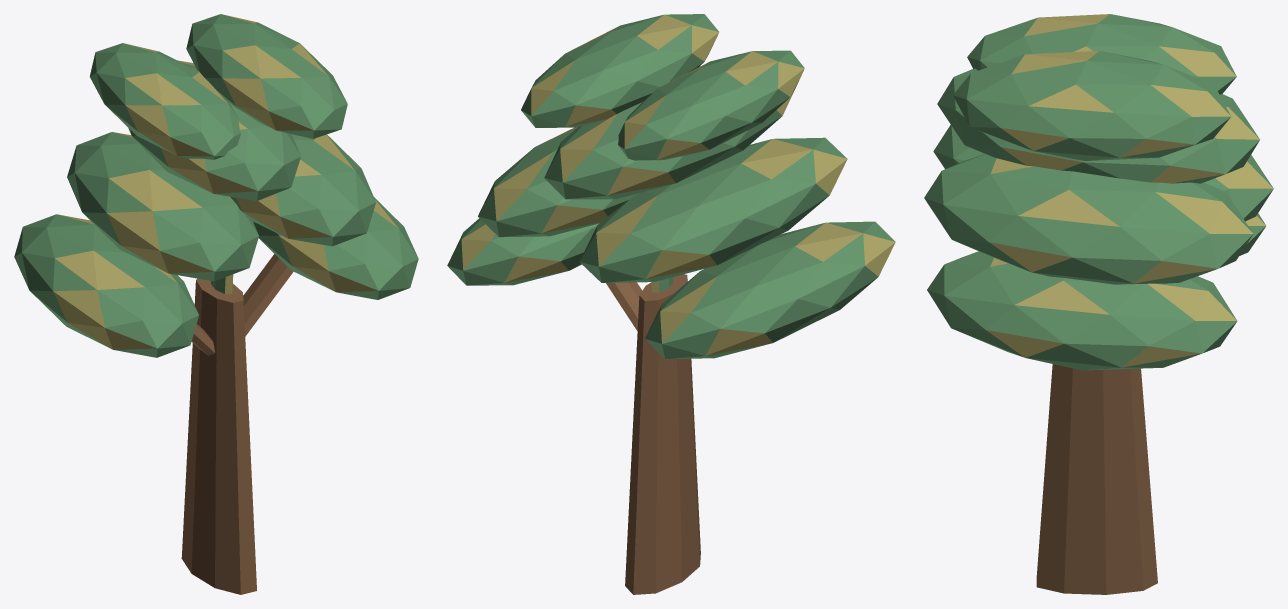
File: plane-tree-straight-sparse-visible-low.glb
3 renders of one model, left to right at view 1: azimuth 30°, elevation 25°; view 2: azimuth 150°, elevation 25°; view 3: azimuth 270°, elevation 25°, orthographic. The views are drawn at different scales.
Visible parts, largest first — view 1: plane-tree-straight-sparse; view 2: plane-tree-straight-sparse; view 3: plane-tree-straight-sparse.
Part boxes in pixels (box(x1,y1,x2,y2)): plane-tree-straight-sparse: box(14, 14, 418, 594); plane-tree-straight-sparse: box(447, 14, 895, 594); plane-tree-straight-sparse: box(924, 14, 1273, 594).
Size of the model in its own units: 7.15 by 10 by 5.9.
